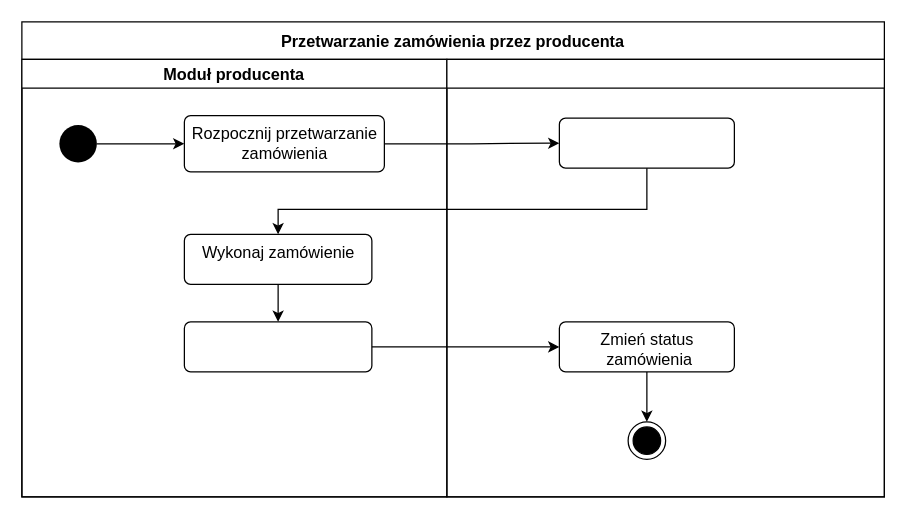
This 906x519 diagram has some shape labels left out. Here are the shapes that lost their labels. From the top down, the box of each, then its label:
(558, 117, 734, 168): Pobierz zamówienie z bazy danych.
(446, 58, 884, 497): Moduł bazy
(183, 321, 372, 372): Przekaż zamówienie do doręczenia
